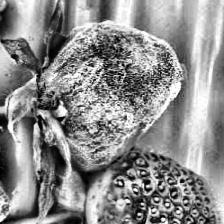Gray Mold: (0, 20, 183, 224)
